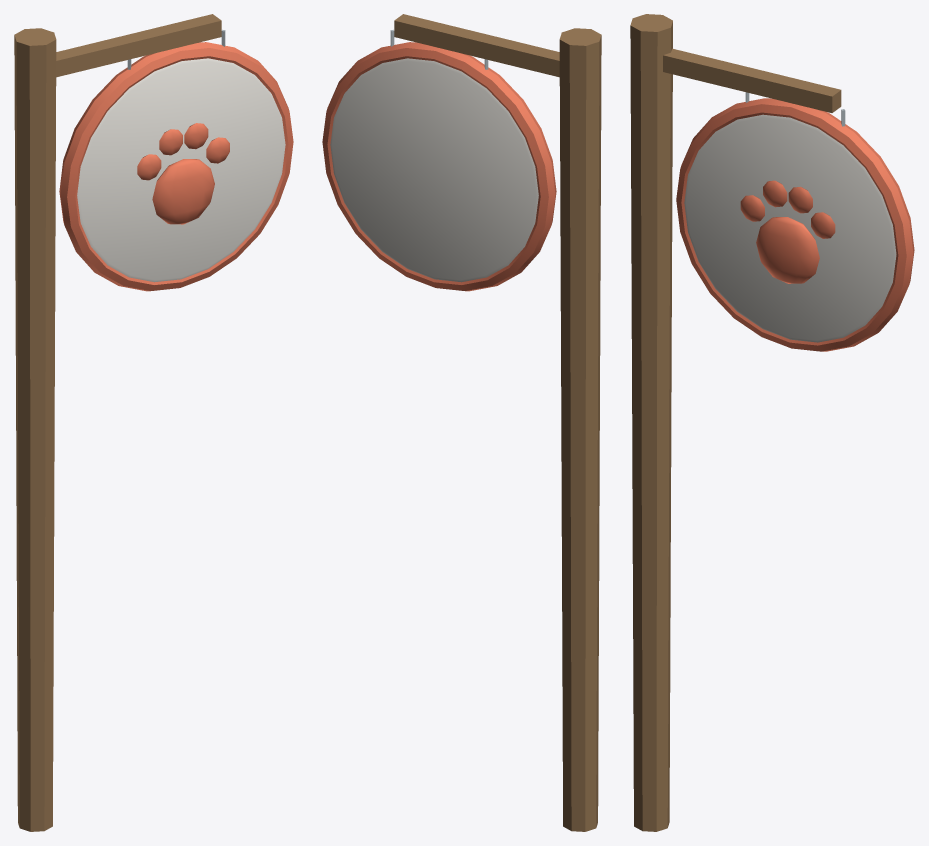
Rendered from t_pawsign.gltf.
3 views of the same model, side by side, from view 1: azimuth 30°, elevation 25°; view 2: azimuth 150°, elevation 25°; view 3: azimuth 330°, elevation 25° (orthographic).
Parts seen in each view (by area): view 1: t_pawsign; view 2: t_pawsign; view 3: t_pawsign.
Part boxes in pixels (x1=…): t_pawsign: x1=14, y1=14, x2=293, y2=831; t_pawsign: x1=322, y1=14, x2=601, y2=831; t_pawsign: x1=630, y1=14, x2=914, y2=831.
Size of the model in its own units: 0.88 by 2.4 by 0.13.
1 material, 1 textured.
